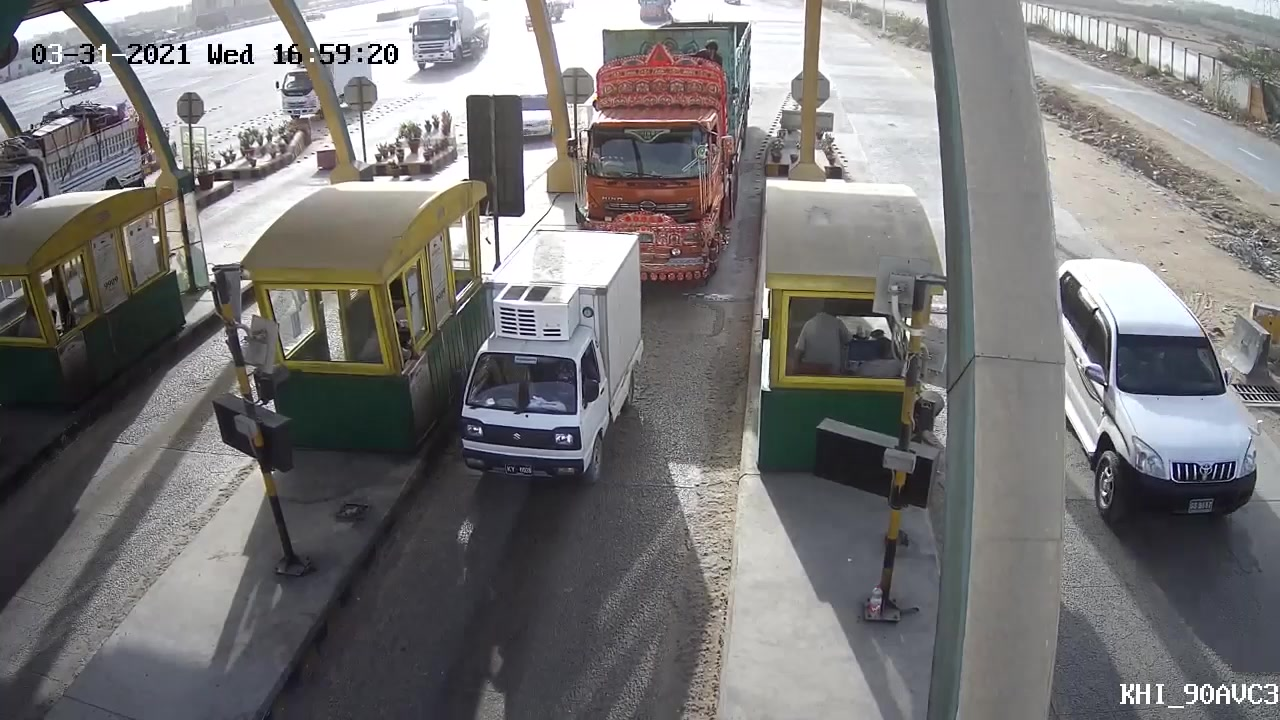F1: (450, 230, 650, 499)
F5: (582, 15, 762, 283)
